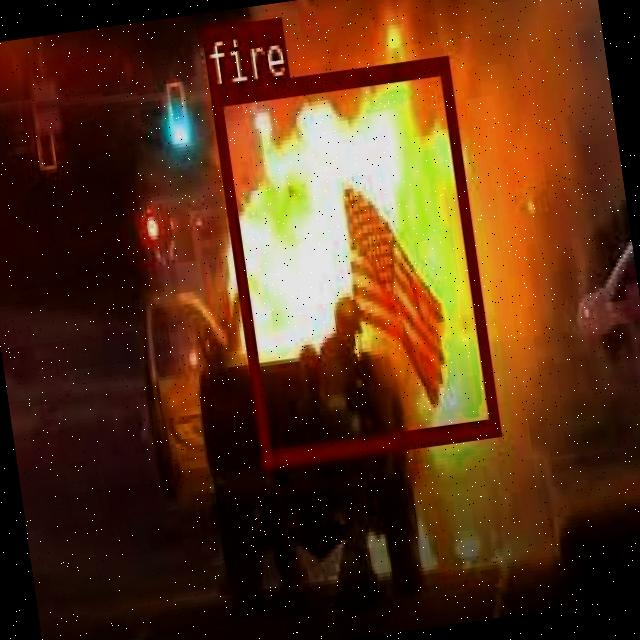fire: (208, 53, 498, 466)
